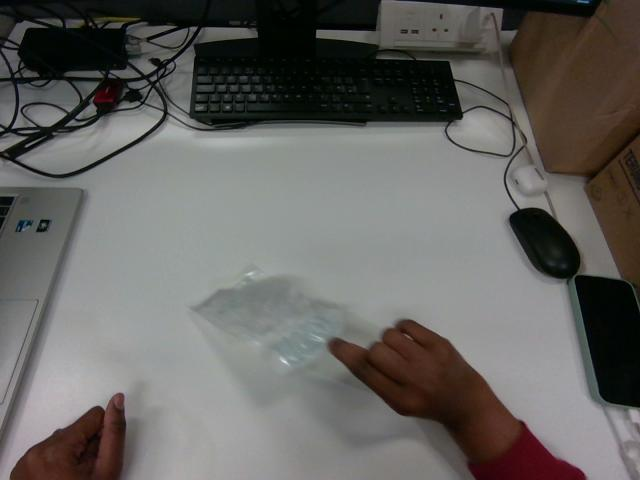gallipot: (193, 269, 346, 373)
